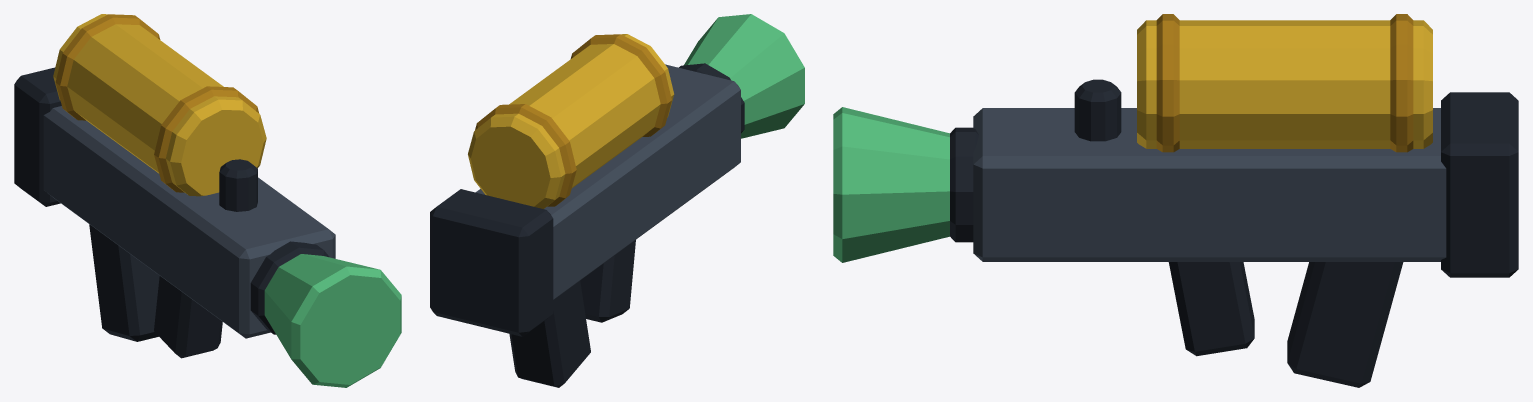
The model's file is wpn_sprayer.glb.
3 renders of one model, left to right at view 1: azimuth 30°, elevation 25°; view 2: azimuth 150°, elevation 25°; view 3: azimuth 270°, elevation 25°, orthographic. The views are drawn at different scales.
Visible parts, largest first — view 1: GEO_weapon; view 2: GEO_weapon; view 3: GEO_weapon.
Boxes of the visible parts, x1=… form: GEO_weapon: x1=14, y1=14, x2=401, y2=387; GEO_weapon: x1=430, y1=14, x2=804, y2=387; GEO_weapon: x1=833, y1=14, x2=1518, y2=387.
Bounding box in the file's own units: 0.2524 × 0.6567 × 1.14.
